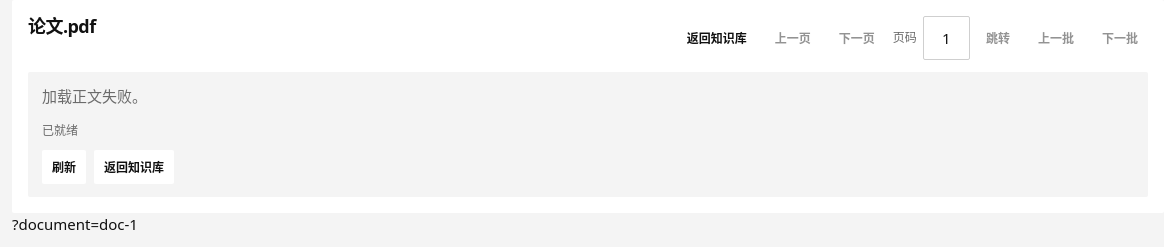
Test: DocumentReader › keeps the real ready state and no not-ready copy after a 409 race
The width and height of the screenshot is (1164, 247).
Expected: the text "已就绪" is shown, [42,122,78,138]
Click the button "刷新". click: {"x": 64, "y": 166}
box: [42,150,86,184]
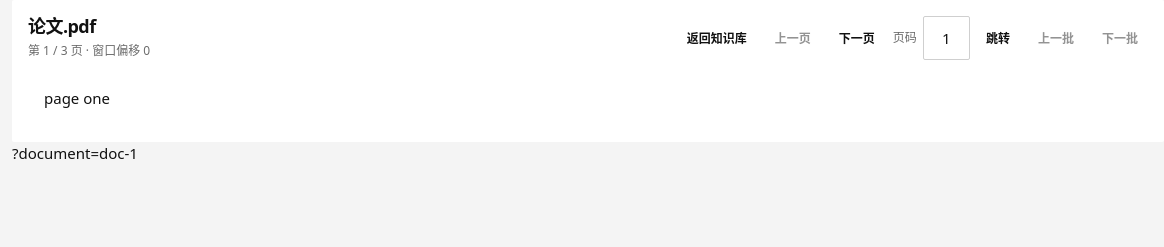
Result: the text "page one" is shown at [44,88,110,108]
